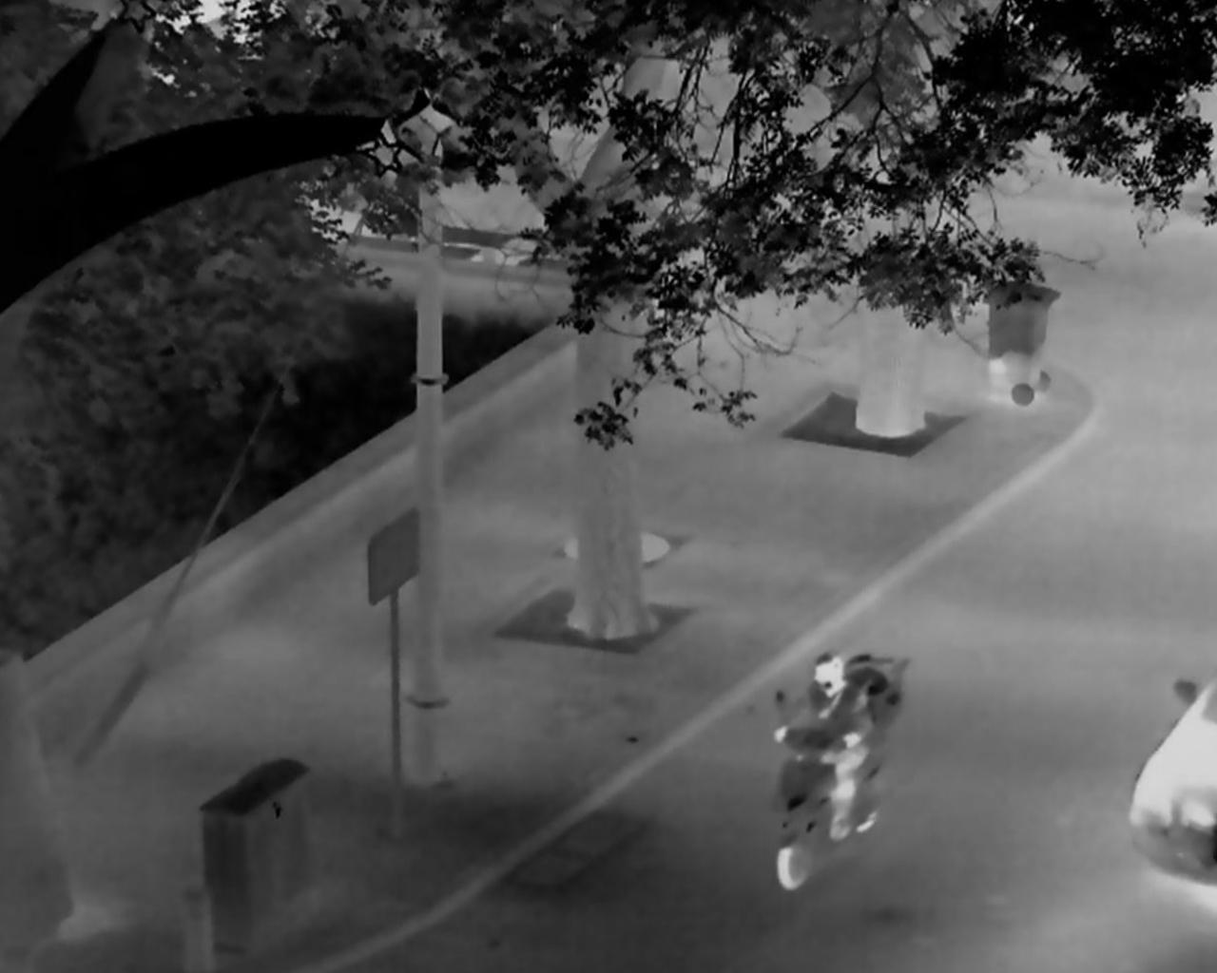person: (771, 652, 876, 842)
